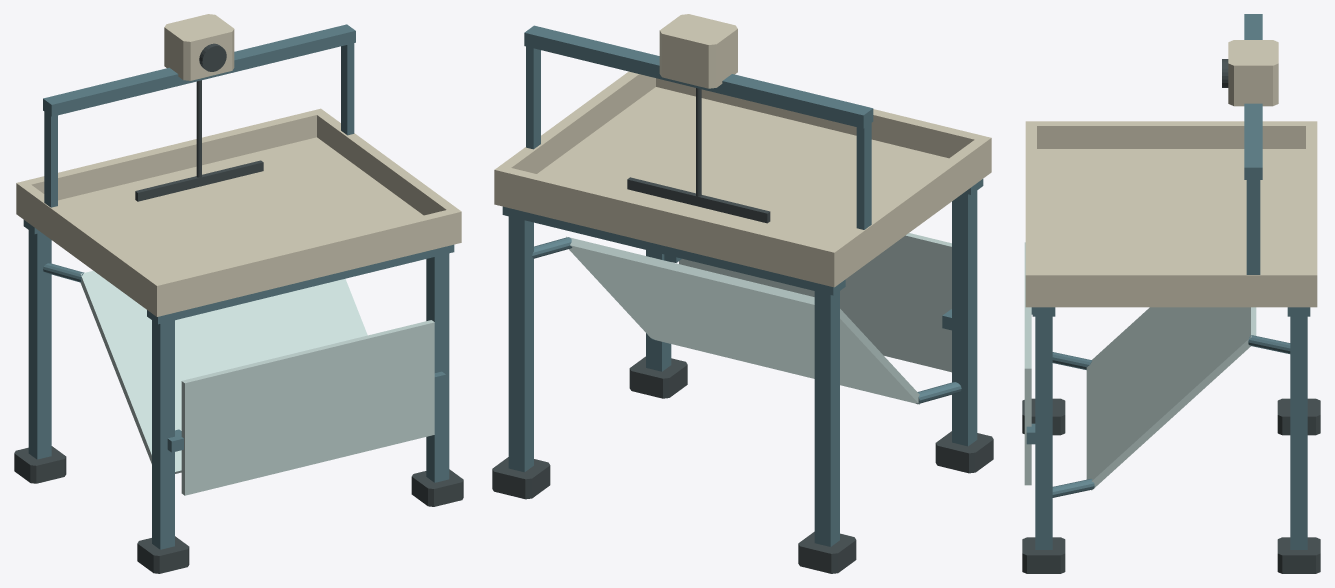
3 renders of one model, left to right at view 1: azimuth 30°, elevation 25°; view 2: azimuth 150°, elevation 25°; view 3: azimuth 270°, elevation 25°, orthographic. The views are drawn at different scales.
Parts seen in each view (by area): view 1: WholeShallowOpenPanWithBlindFloor, WholeLowBlankFrontScreen, WholeLowerTiltedOpaquePanel, WholeUpperCrossbridge, WholeFrameLeg01, WholeFrameLeg00, WholeFrameLeg10, WholeClosedTopDriverCasing, WholePanTransverseBearer0, WholeSuspendedShortDipperStrip, WholeGroundFoot01, WholeGroundFoot10 (+5 smaller); view 2: WholeShallowOpenPanWithBlindFloor, WholeLowerTiltedOpaquePanel, WholeLowBlankFrontScreen, WholeUpperCrossbridge, WholeFrameLeg01, WholeFrameLeg11, WholeFrameLeg00, WholeClosedTopDriverCasing, WholePanTransverseBearer1, WholeSuspendedShortDipperStrip, WholeGroundFoot10, WholeGroundFoot01 (+6 smaller); view 3: WholeShallowOpenPanWithBlindFloor, WholeLowerTiltedOpaquePanel, WholeFrameLeg10, WholeFrameLeg11, WholeClosedTopDriverCasing, WholeUpperCrossbridge, WholeLowBlankFrontScreen, WholePanBridgeUpright1, WholeGroundFoot10, WholeGroundFoot11, WholeGroundFoot01, WholeGroundFoot00 (+3 smaller).
Part boxes in pixels (x1,y1,x2,y2): WholeShallowOpenPanWithBlindFloor: (16, 108, 461, 316); WholeLowBlankFrontScreen: (181, 320, 434, 495); WholeLowerTiltedOpaquePanel: (80, 270, 367, 473); WholeUpperCrossbridge: (43, 24, 355, 116); WholeFrameLeg01: (28, 230, 51, 459); WholeFrameLeg00: (152, 320, 174, 549); WholeFrameLeg10: (426, 253, 449, 482); WholeClosedTopDriverCasing: (164, 14, 234, 80); WholePanTransverseBearer0: (147, 244, 454, 324); WholeSuspendedShortDipperStrip: (135, 160, 263, 201); WholeGroundFoot01: (14, 446, 66, 483); WholeGroundFoot10: (411, 469, 463, 506); WholeShallowOpenPanWithBlindFloor: (494, 71, 991, 287); WholeLowerTiltedOpaquePanel: (566, 236, 919, 404); WholeLowBlankFrontScreen: (679, 233, 951, 372); WholeUpperCrossbridge: (524, 25, 873, 128); WholeFrameLeg01: (814, 291, 839, 546); WholeFrameLeg11: (508, 216, 533, 472); WholeFrameLeg00: (952, 190, 977, 446); WholeClosedTopDriverCasing: (659, 14, 737, 88); WholePanTransverseBearer1: (502, 206, 845, 295); WholeSuspendedShortDipperStrip: (627, 177, 770, 223); WholeGroundFoot10: (629, 356, 687, 398); WholeGroundFoot01: (798, 531, 856, 573); WholeShallowOpenPanWithBlindFloor: (1025, 121, 1317, 307); WholeLowerTiltedOpaquePanel: (1086, 307, 1256, 490); WholeFrameLeg10: (1035, 316, 1052, 549); WholeFrameLeg11: (1290, 316, 1307, 549); WholeClosedTopDriverCasing: (1228, 40, 1278, 106); WholeUpperCrossbridge: (1244, 14, 1262, 179); WholeLowBlankFrontScreen: (1024, 242, 1031, 485); WholePanBridgeUpright1: (1246, 180, 1260, 274); WholeGroundFoot10: (1022, 537, 1065, 573); WholeGroundFoot11: (1277, 537, 1320, 573); WholeGroundFoot01: (1277, 398, 1320, 435); WholeGroundFoot00: (1022, 398, 1065, 435).
Size of the model in its own units: 0.814 by 1.07 by 0.654.
